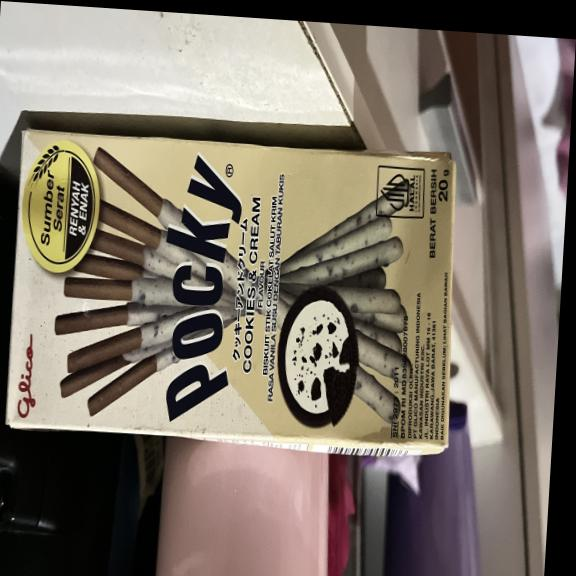Kertas: (5, 126, 454, 449)
